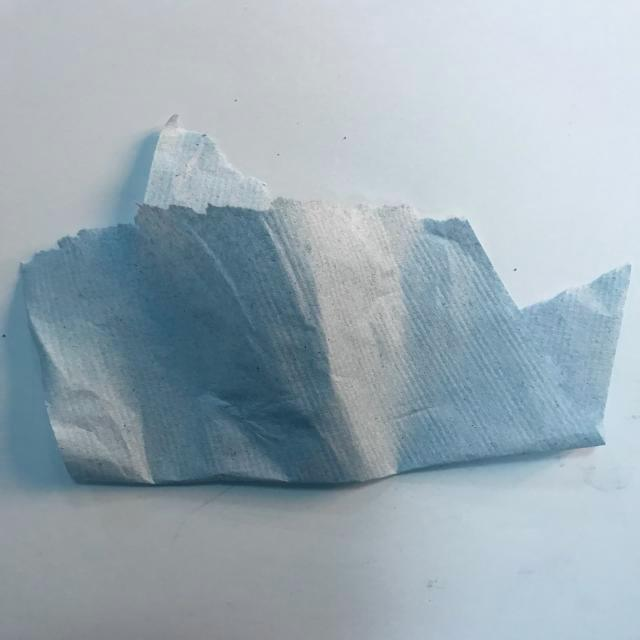paper: (0, 105, 640, 517)
